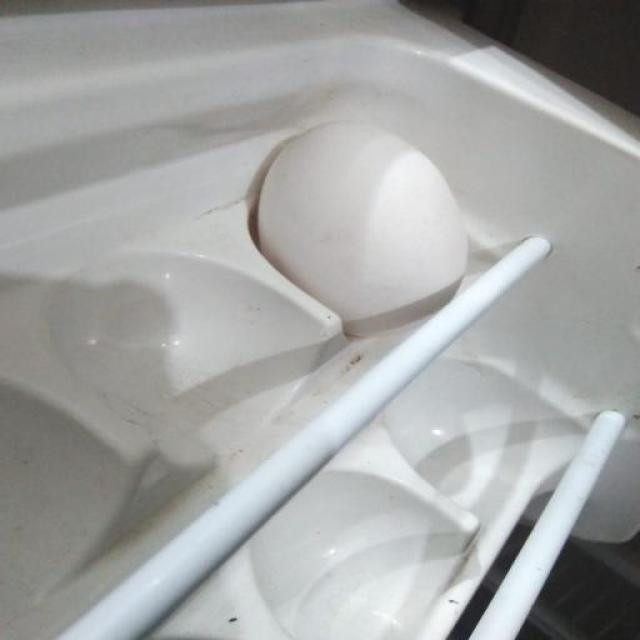telur: (249, 118, 472, 338)
